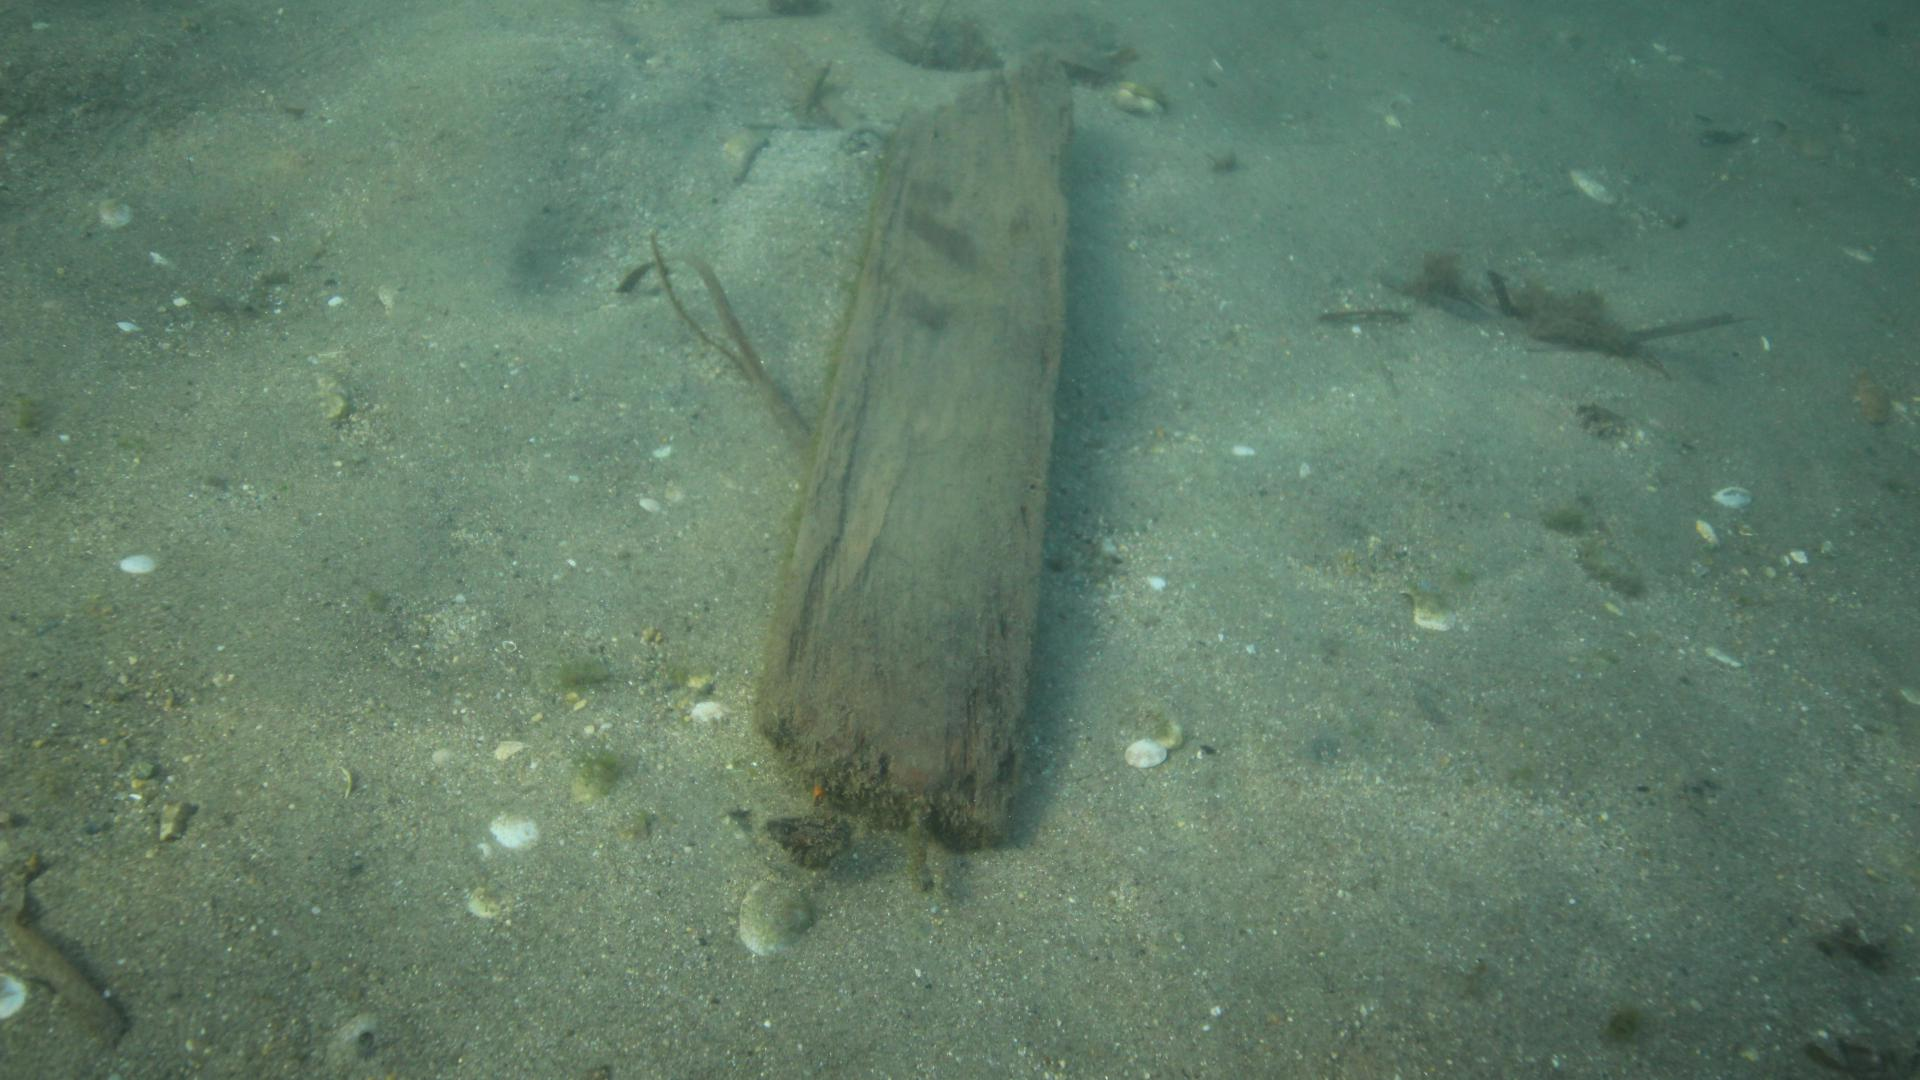wood: (752, 46, 1076, 856)
